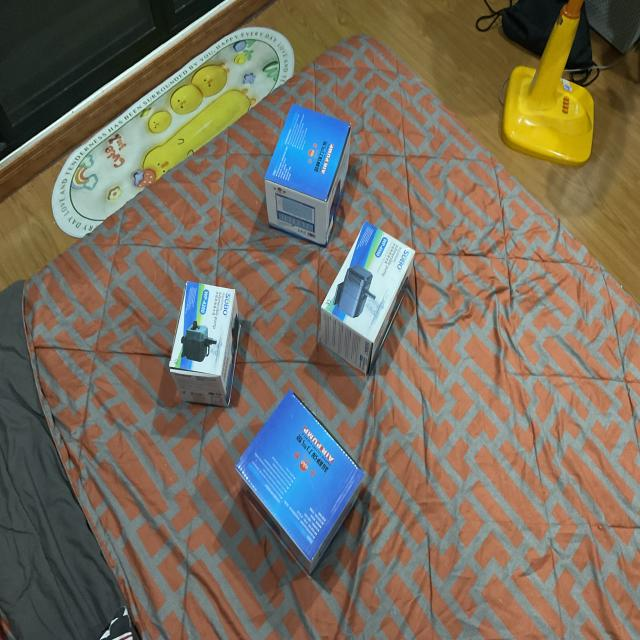SOBO_WP_4200: (313, 219, 428, 391), (169, 267, 248, 417)
YAMANO_LPP_20: (230, 390, 376, 586), (264, 96, 358, 249)
